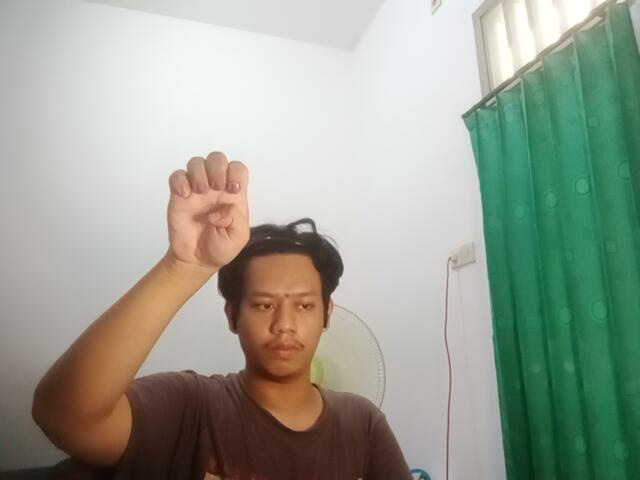E: (139, 138, 264, 280)
